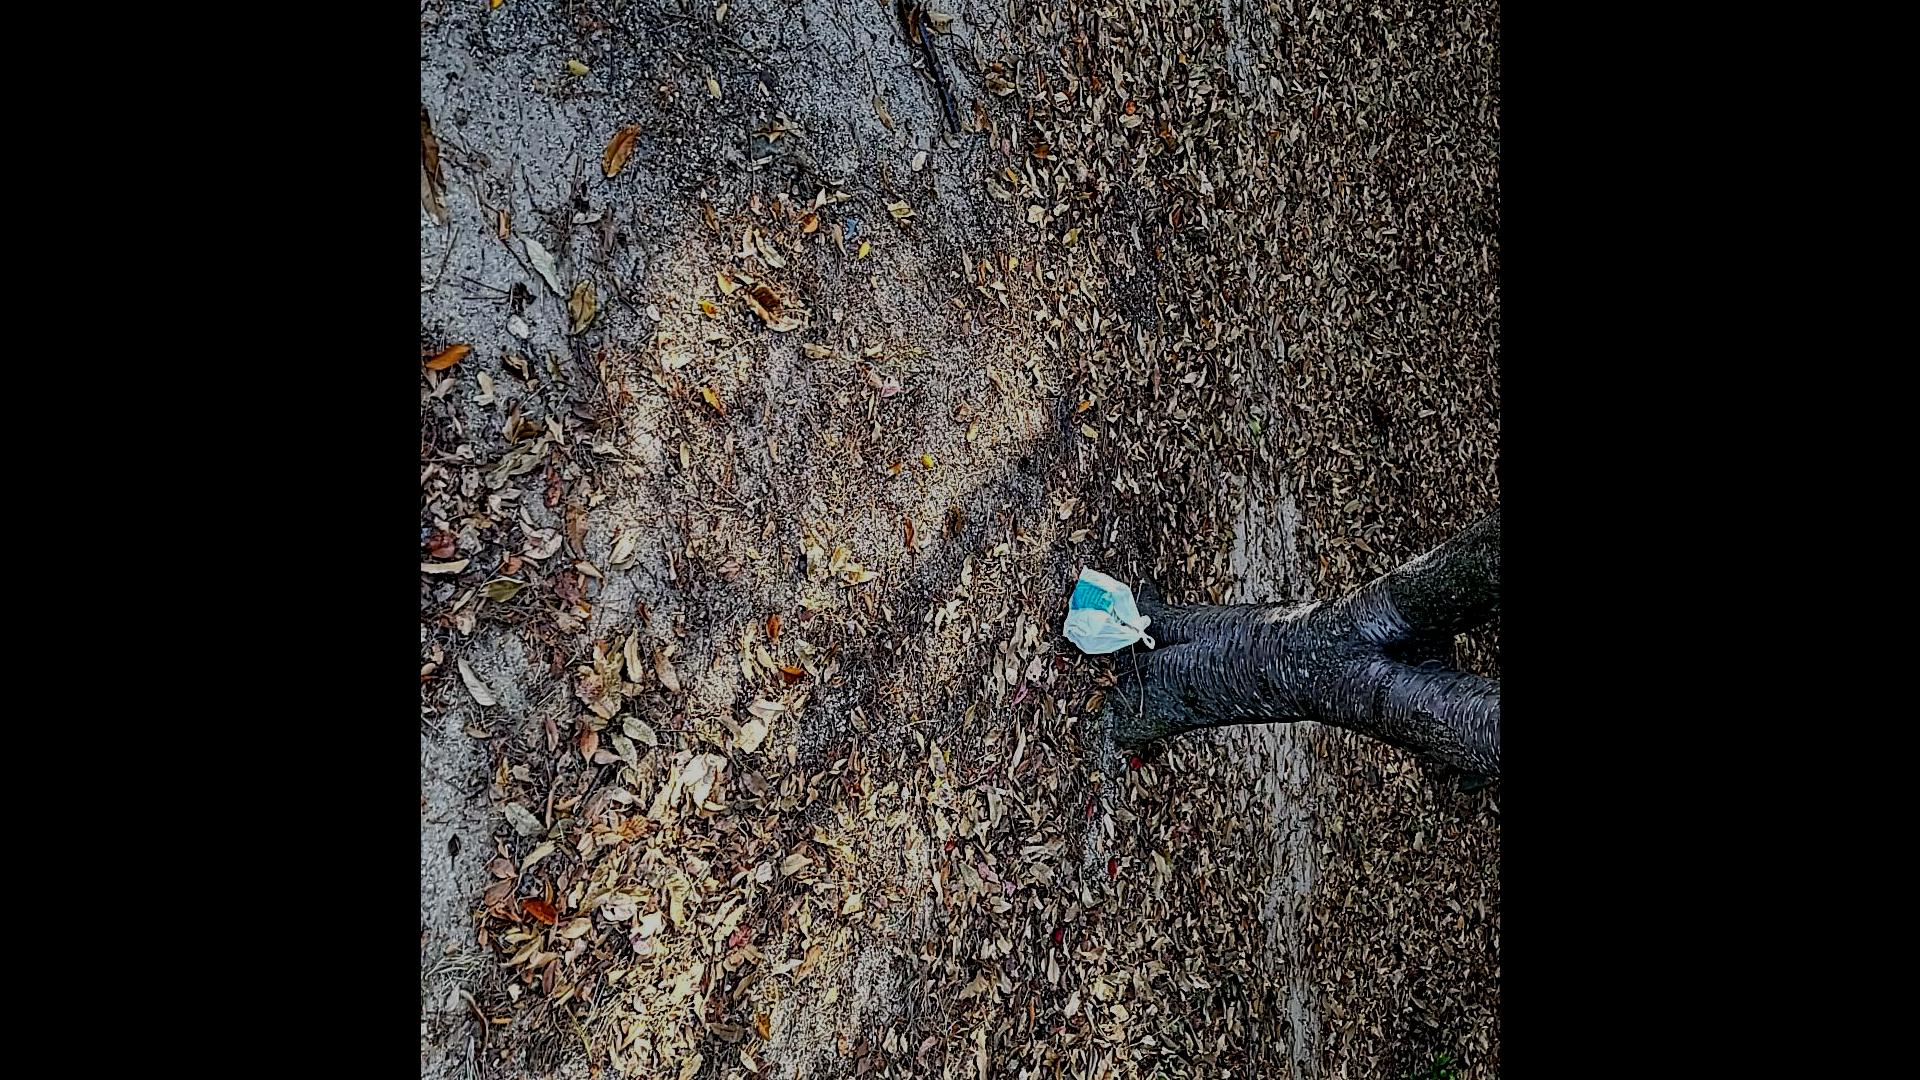white_bag: (1050, 561, 1162, 673)
